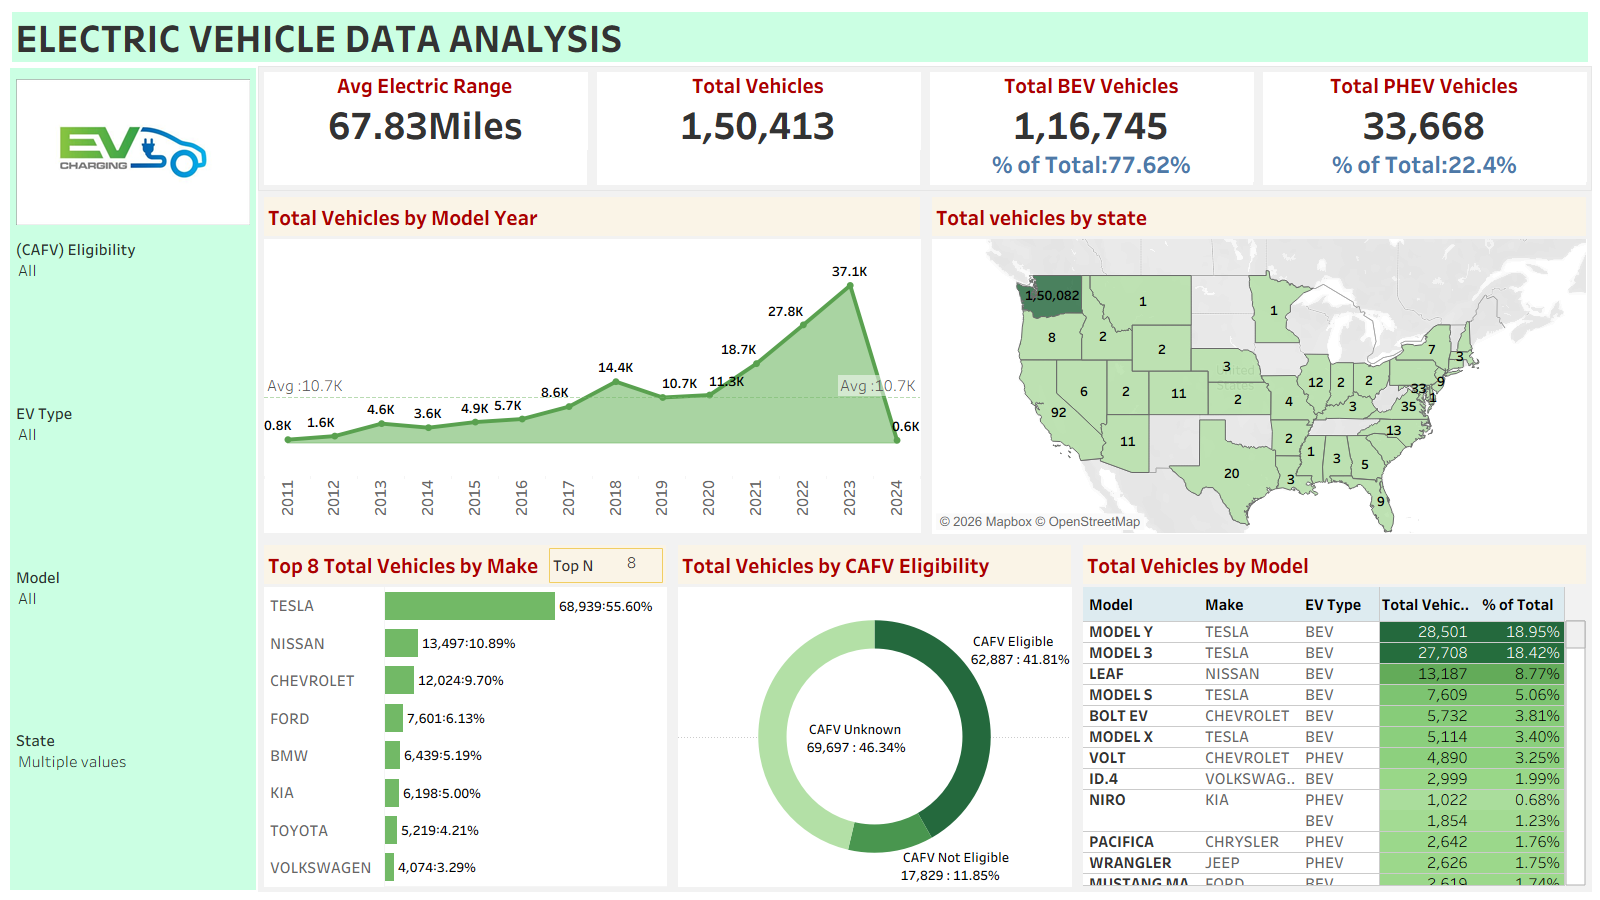

The page's visual inventory and layout, read from the dashboard file:
{"tool":"tableau","page":{"name":"Dashboard 1","canvas":[1600,900],"ordinal":0},"visuals":[{"type":"title","box":[8,8,1584,58]},{"type":"worksheet","title":"Avg Electric Range","mark":"Automatic","box":[259,67,333,123]},{"type":"worksheet","title":"Total Vehicles","mark":"Automatic","box":[592,67,333,123]},{"type":"worksheet","title":"Total BEV Vehicles","mark":"Automatic","box":[925,67,333,123]},{"type":"worksheet","title":"Total PHEV Vehicles","mark":"Automatic","box":[1258,67,333,123]},{"type":"image","box":[12,70,242,164]},{"type":"worksheet","title":"Total Vehicles by Model Year","mark":"Area","rows":["Calculation_0862624086294528","Calculation_0862624086294528"],"cols":["Model Year"],"box":[258,191,668,348.5]},{"type":"worksheet","title":"Total vehicles by state","mark":"Automatic","box":[926,191,666,348.5]},{"type":"filter","title":"Total Vehicles by Model Year","param":"[federated.1qobhsd02w5h9c1a0bqy61lq1ql4].[none:Clean Alternative Fuel Vehicle (C","box":[12,234,242,164]},{"type":"filter","title":"Total Vehicles by Model Year","param":"[federated.1qobhsd02w5h9c1a0bqy61lq1ql4].[none:Electric Vehicle Type:nk]","box":[12,398,242,164]},{"type":"worksheet","title":"Top 10 Total Vehicles by Make","mark":"Automatic","rows":["Make"],"cols":["Calculation_0862624086294528"],"box":[258,539.4,414,352.6]},{"type":"worksheet","title":"Total Vehicles by CAFV Eligibility","mark":"Pie","rows":["Calculation_0862624291942411","Calculation_0862624291942411"],"box":[672,539.4,405,352.6]},{"type":"worksheet","title":"Total Vehicles by Model","mark":"Square","rows":["Model","Make","Electric Vehicle Type"],"box":[1077,539.4,515,352.6]},{"type":"parameter","param":"[Parameters].[Parameter 1]","box":[549,548,114,35]},{"type":"filter","title":"Total Vehicles by Model Year","param":"[federated.1qobhsd02w5h9c1a0bqy61lq1ql4].[none:Model:nk]","box":[12,562,242,163]},{"type":"filter","title":"Total Vehicles by Model Year","param":"[federated.1qobhsd02w5h9c1a0bqy61lq1ql4].[none:State:nk]","box":[12,725,242,163]}]}

Visuals, with their boxes in screenshot pixels (x1, y1, x2, y2), scaled from the page's 1600x900 canvas onto the 1600x900 screenshot:
title: bbox=[8, 8, 1592, 66]
"Avg Electric Range" worksheet: bbox=[259, 67, 592, 190]
"Total Vehicles" worksheet: bbox=[592, 67, 925, 190]
"Total BEV Vehicles" worksheet: bbox=[925, 67, 1258, 190]
"Total PHEV Vehicles" worksheet: bbox=[1258, 67, 1591, 190]
image: bbox=[12, 70, 254, 234]
"Total Vehicles by Model Year" worksheet (Area marks): bbox=[258, 191, 926, 540]
"Total vehicles by state" worksheet: bbox=[926, 191, 1592, 540]
"Total Vehicles by Model Year" filter: bbox=[12, 234, 254, 398]
"Total Vehicles by Model Year" filter: bbox=[12, 398, 254, 562]
"Top 10 Total Vehicles by Make" worksheet: bbox=[258, 539, 672, 892]
"Total Vehicles by CAFV Eligibility" worksheet (Pie marks): bbox=[672, 539, 1077, 892]
"Total Vehicles by Model" worksheet (Square marks): bbox=[1077, 539, 1592, 892]
parameter: bbox=[549, 548, 663, 583]
"Total Vehicles by Model Year" filter: bbox=[12, 562, 254, 725]
"Total Vehicles by Model Year" filter: bbox=[12, 725, 254, 888]
